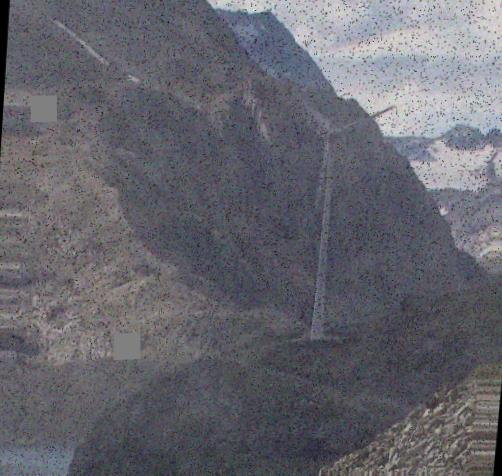wind turbine: (288, 94, 397, 329)
